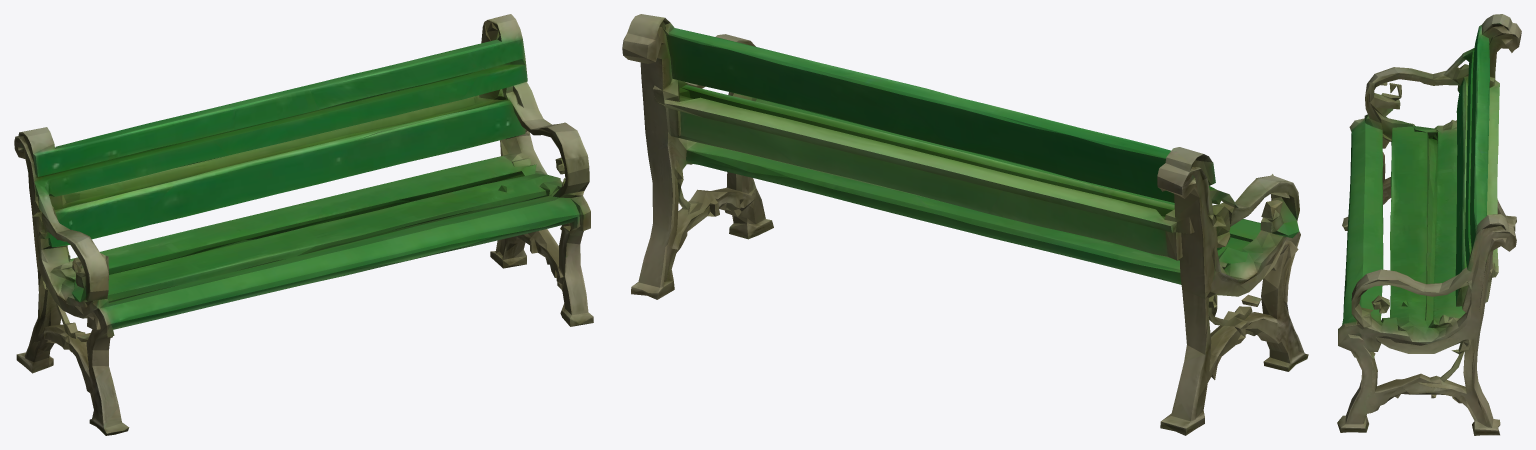
Rendered from fw_prop_bench_park_a.glb.
3 views of the same model, side by side, from view 1: azimuth 30°, elevation 25°; view 2: azimuth 150°, elevation 25°; view 3: azimuth 270°, elevation 25° (orthographic). The views are drawn at different scales.
Parts seen in each view (by area): view 1: model; view 2: model; view 3: model.
Part boxes in pixels (x1,y1,x2,y2): model: (14,14,593,435); model: (622,14,1308,435); model: (1337,14,1521,435).
Bounding box in the file's own units: 1.8 × 0.8234 × 0.6463.
1 material, 1 textured.
